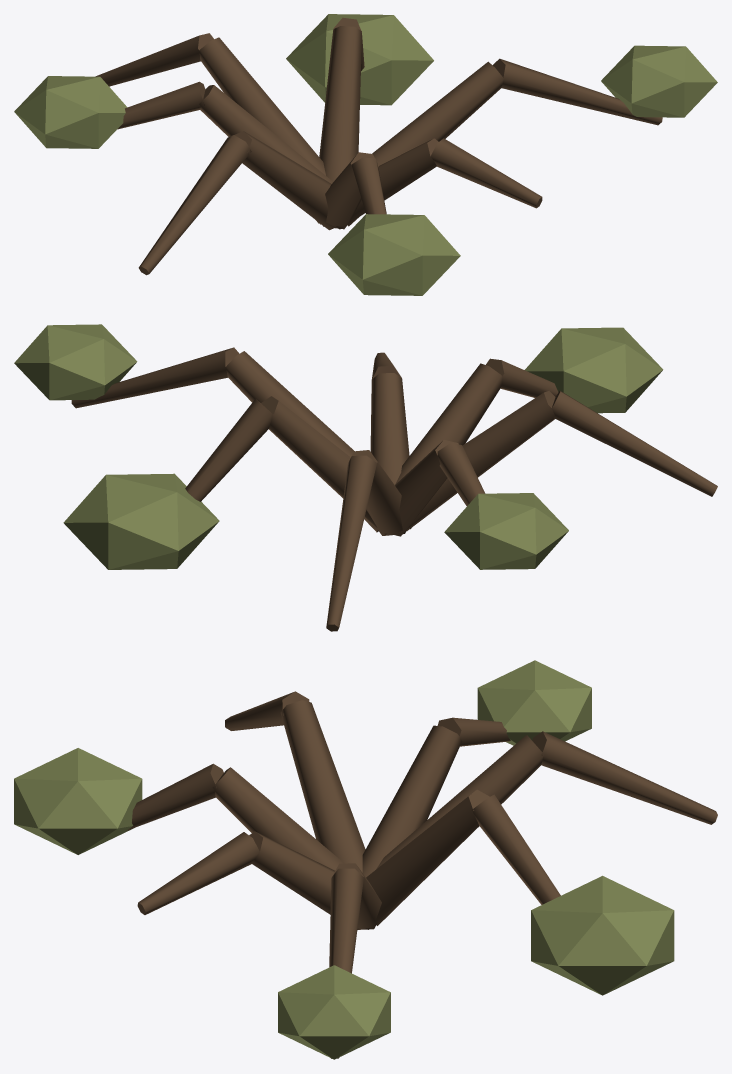
Rendered from shrub_dry_low.glb.
The picture shows the model from 3 angles, top to bottom: view 1: azimuth 30°, elevation 25°; view 2: azimuth 150°, elevation 25°; view 3: azimuth 270°, elevation 25°; orthographic projection. The views are drawn at different scales.
Bounding box in the file's own units: 1.94 × 0.4523 × 1.72.
